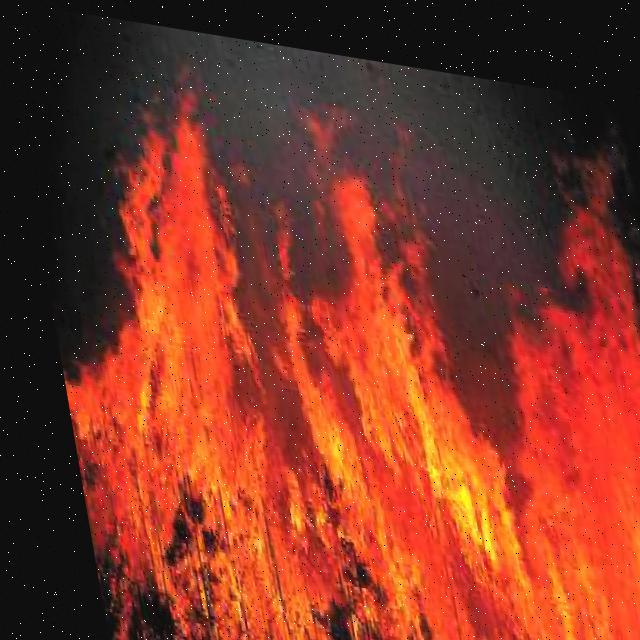Fire: (9, 57, 639, 639)
